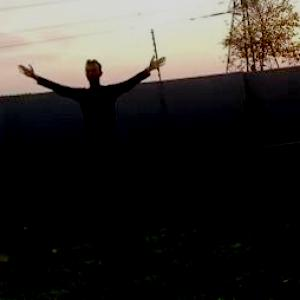takeoff: (33, 58, 167, 207)
